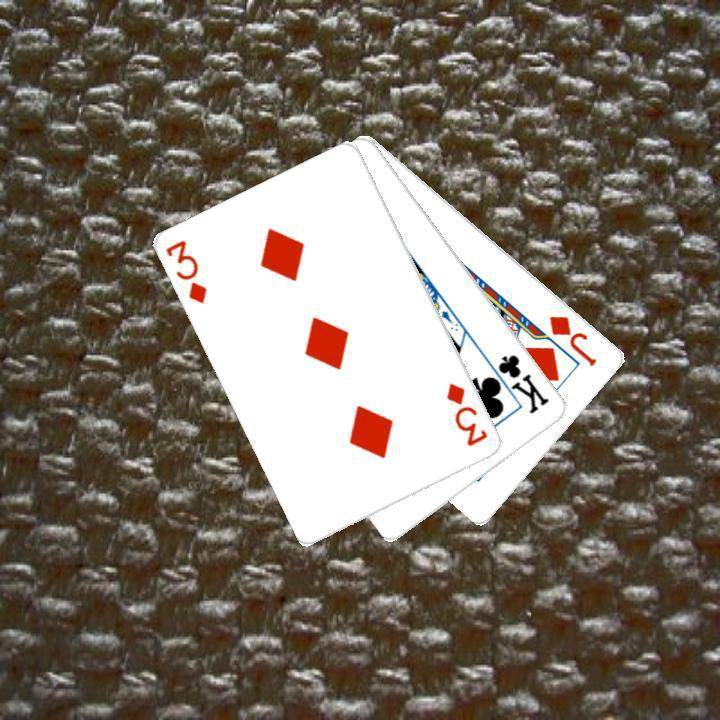3: (442, 378, 491, 449), (161, 235, 210, 306)
J: (545, 311, 600, 368)
K: (482, 350, 552, 416)
